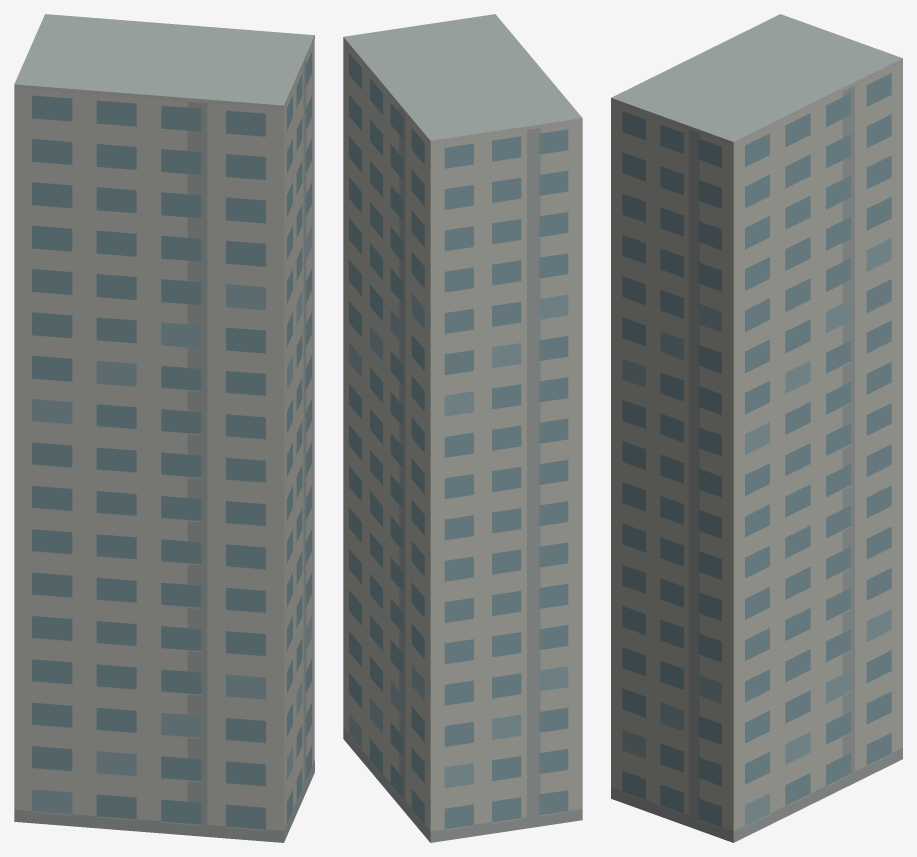
The model's file is residential-c76326d7-24ac-440a-b316-21835a89983e.glb.
3 renders of one model, left to right at view 1: azimuth 30°, elevation 25°; view 2: azimuth 150°, elevation 25°; view 3: azimuth 270°, elevation 25°, orthographic. The views are drawn at different scales.
Parts seen in each view (by area): view 1: residential-c76326d7-24ac-440a-b316-21835a89983e.tmp; view 2: residential-c76326d7-24ac-440a-b316-21835a89983e.tmp; view 3: residential-c76326d7-24ac-440a-b316-21835a89983e.tmp.
Part boxes in pixels (x1,y1,x2,y2): residential-c76326d7-24ac-440a-b316-21835a89983e.tmp: [14, 14, 314, 842]; residential-c76326d7-24ac-440a-b316-21835a89983e.tmp: [343, 14, 582, 842]; residential-c76326d7-24ac-440a-b316-21835a89983e.tmp: [611, 14, 902, 842].
Size of the model in its own units: 19.2 by 49 by 18.5.
